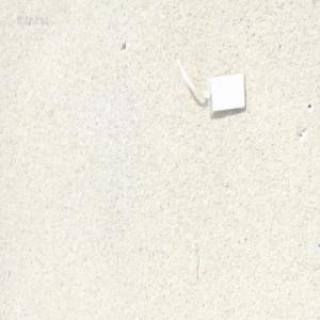LuggageTagtrack_idkeyframe: (168, 54, 246, 119)
